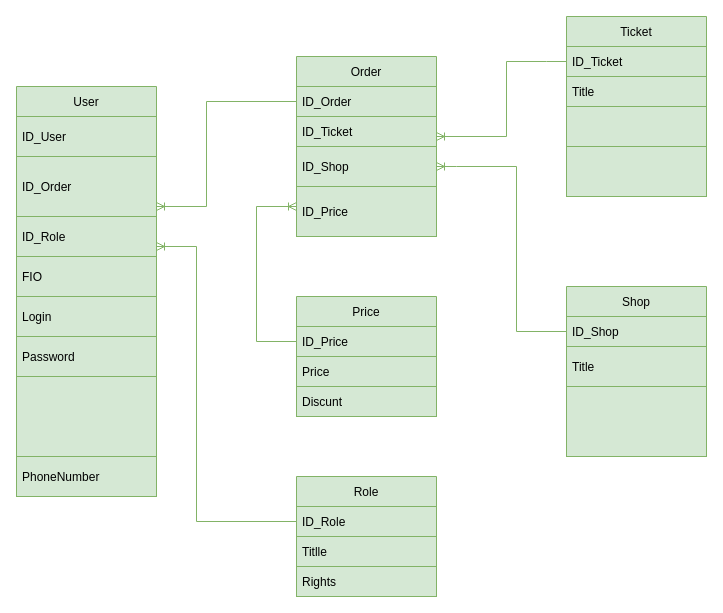
The diagram is 723 pixels wide and 613 high, and some of its shapes have lost their labels. The box of each missing label's shape, as (x1, y1, x2, y2) in pixels:
Consist: (566, 106, 706, 146)
Gmail: (16, 376, 156, 456)
GmailAdress: (566, 386, 706, 456)
TicketPrice: (566, 146, 706, 196)
